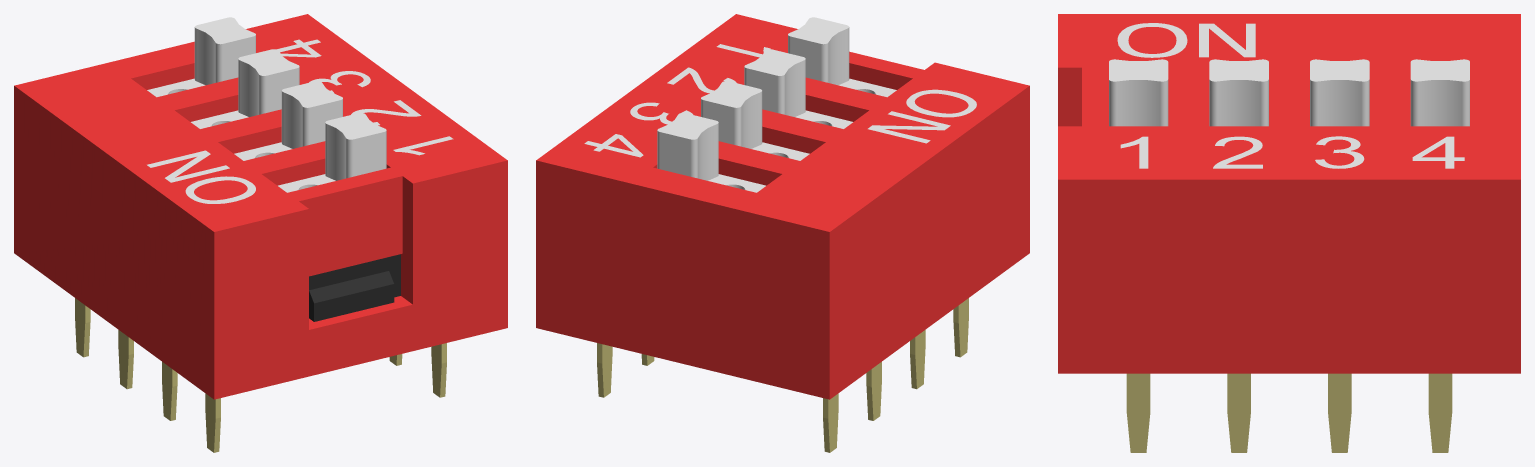
3 renders of one model, left to right at view 1: azimuth 30°, elevation 25°; view 2: azimuth 150°, elevation 25°; view 3: azimuth 270°, elevation 25°, orthographic. The views are drawn at different scales.
Parts seen in each view (by area): view 1: =>[0:1:1:3], =>[0:1:1:2]; view 2: =>[0:1:1:3], =>[0:1:1:2]; view 3: =>[0:1:1:3], =>[0:1:1:2].
Part boxes in pixels (x1,y1,x2,y2): =>[0:1:1:3]: (14, 14, 507, 452); =>[0:1:1:2]: (147, 39, 453, 203); =>[0:1:1:3]: (536, 14, 1029, 452); =>[0:1:1:2]: (584, 44, 976, 157); =>[0:1:1:3]: (1058, 14, 1520, 452); =>[0:1:1:2]: (1117, 23, 1464, 168).
Size of the model in its own units: 0.0099 by 0.0093 by 0.0117.
